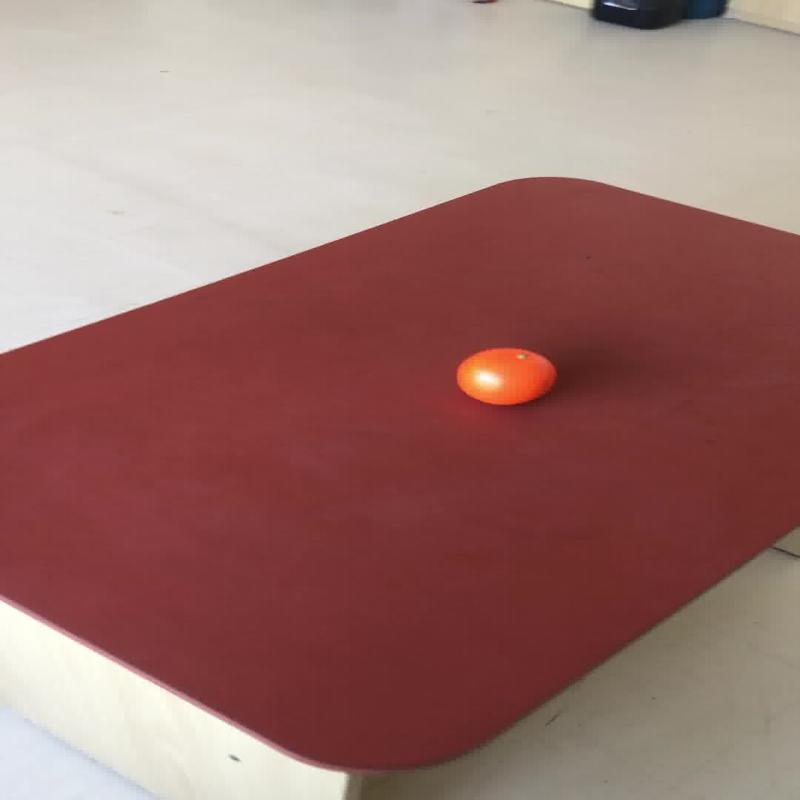orange: (454, 346, 556, 406)
